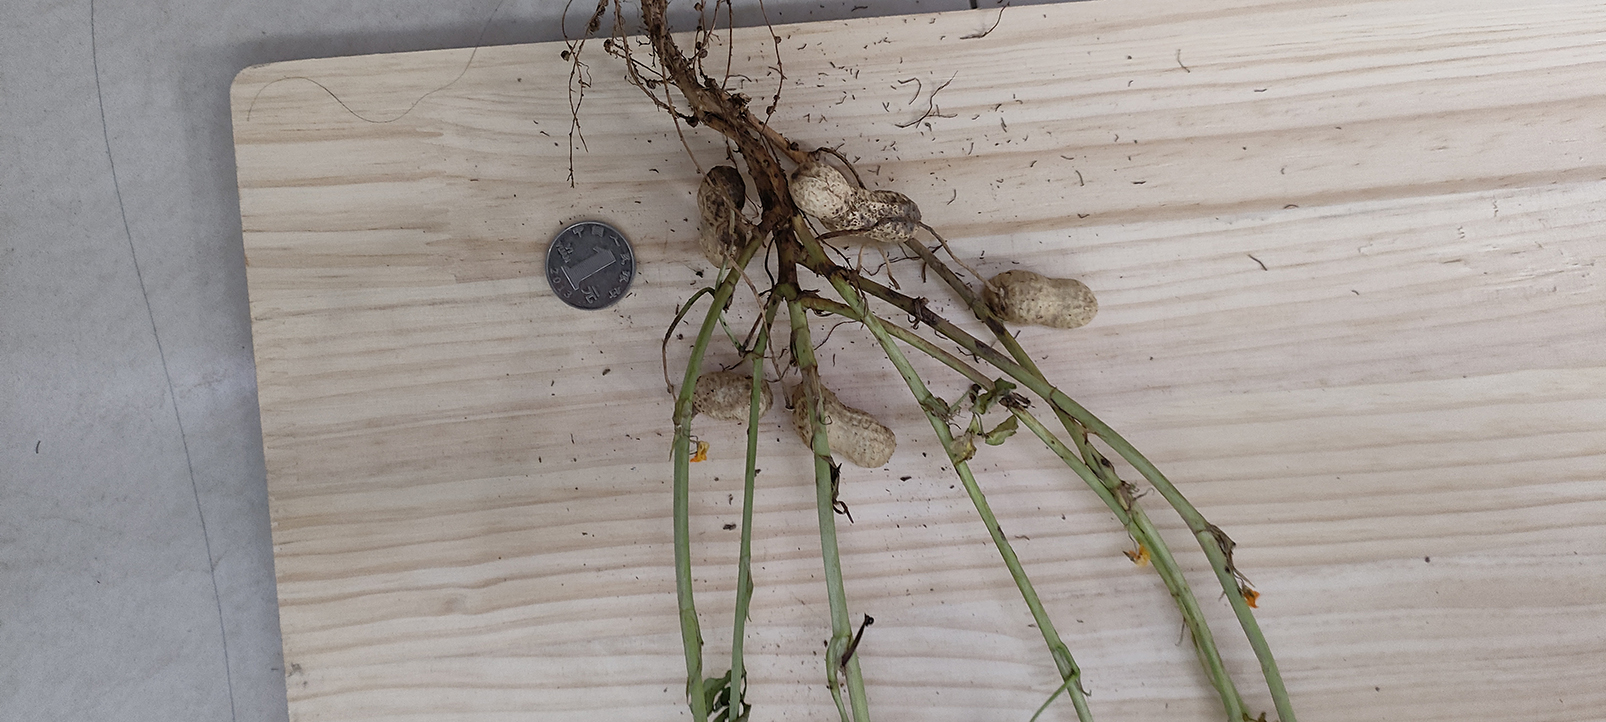h: (788, 161, 922, 243), (794, 382, 896, 467), (982, 266, 1098, 328)
l: (698, 165, 747, 267), (692, 373, 773, 419)
